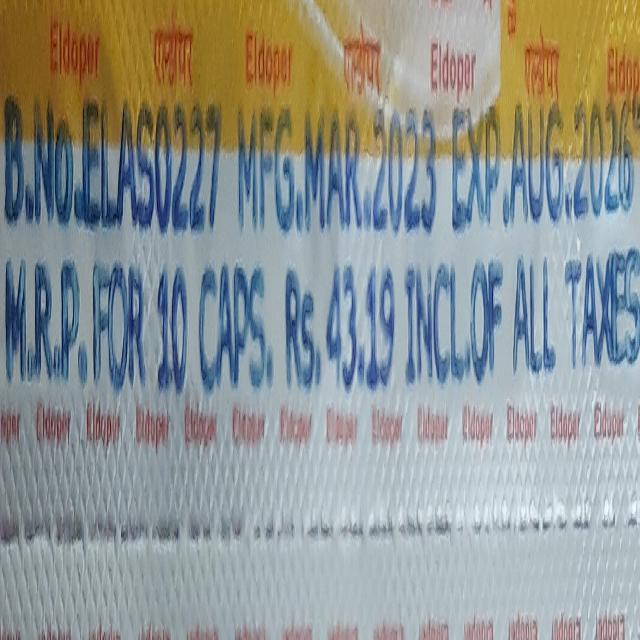sentence: (0, 243, 640, 437), (2, 97, 640, 237)
